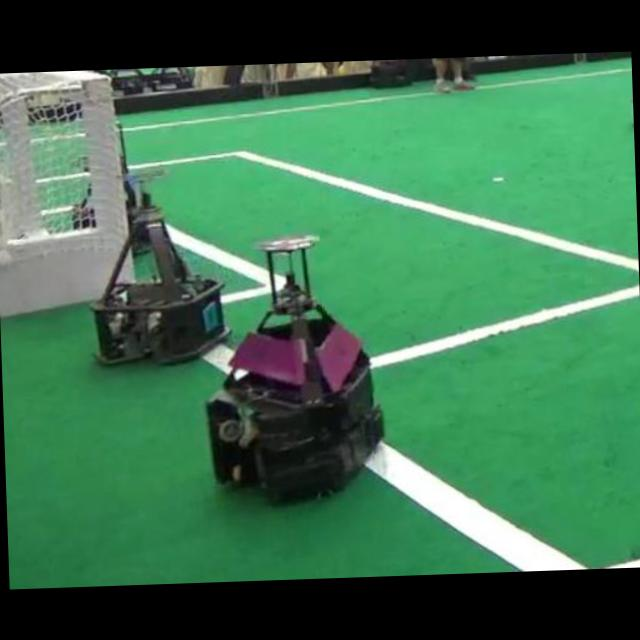robot: (207, 235, 383, 499), (92, 176, 228, 364)
